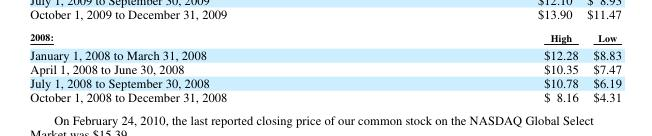table: (29, 29, 620, 104)
table column: (29, 29, 384, 104), (384, 29, 585, 104), (585, 29, 620, 104)
table column header: (29, 29, 620, 44)
table row: (29, 44, 620, 61), (29, 29, 620, 44), (29, 89, 620, 104), (29, 61, 620, 75), (29, 75, 620, 89)
